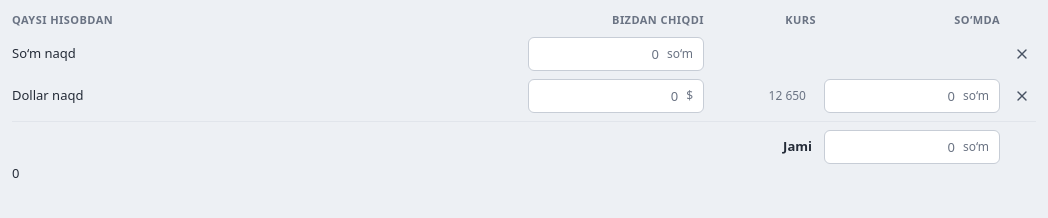
Test case: the ready lines of an expense › are counted in so'm, dollars at the day's rate, under words of their own
expect the text "So‘mda" is shown: met, box top-left (954, 12), bottom-right (1000, 27)
Type "494000" into the field with placeholder "0" in the row of "So‘m naqd" at [596, 54], box top-left (529, 38), bottom-right (663, 70)
Then press Tab
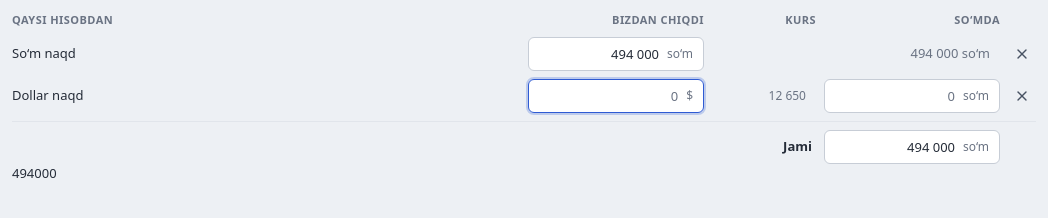
Type "40" into the 1st field with placeholder "0" at [606, 96], box top-left (529, 80), bottom-right (682, 112)
Then press Tab
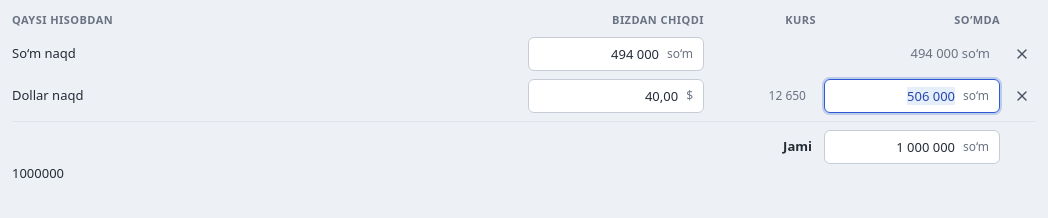
expect the text named "total" reads "1000000": met, box top-left (12, 164), bottom-right (64, 182)
Note: The worth typed over leaves the dollars as they are: forty dollars counted as 510 000.
Replace the text in the 3rd field with "510000" at [892, 96], box top-left (825, 80), bottom-right (959, 112)
Then press Tab
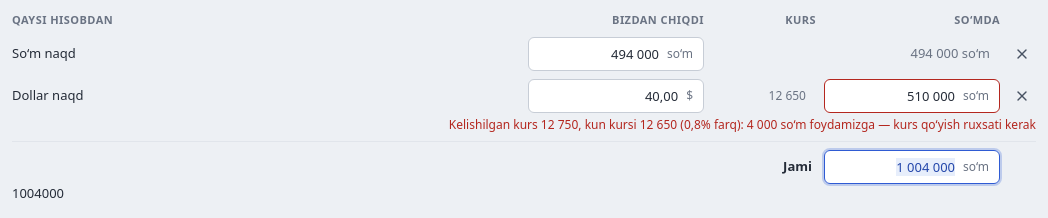
expect the 2nd field holds "40,00": met
expect the text named "total" reads "1004000": met, box top-left (12, 184), bottom-right (64, 202)
Note: Typed into an empty line, it works the dollars out.
Clear the 2nd field at [606, 96], box top-left (529, 80), bottom-right (682, 112)
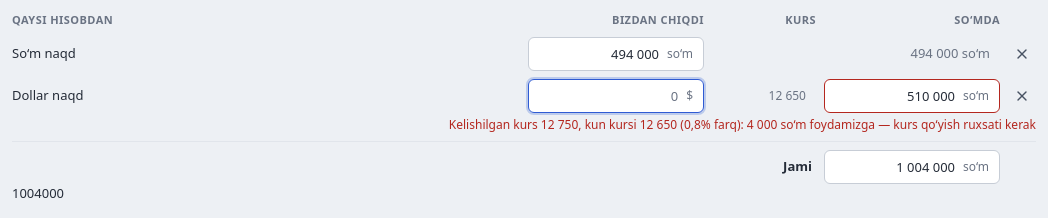
Press Tab
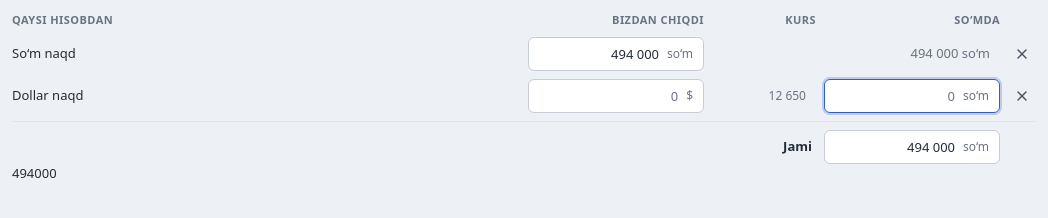
Type "253000" into the 2nd field with placeholder "0" at [892, 96], box top-left (825, 80), bottom-right (959, 112)
Then press Tab
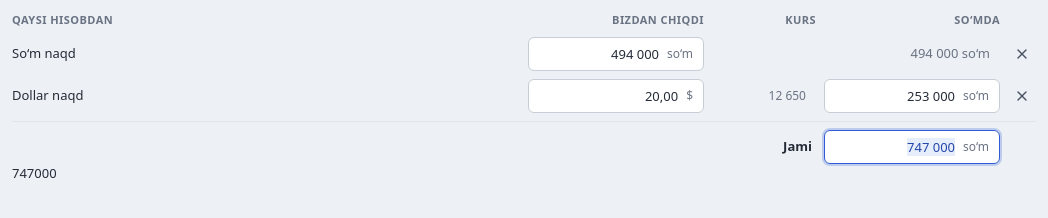
expect the 2nd field holds "20,00": met, box top-left (529, 80), bottom-right (682, 112)
